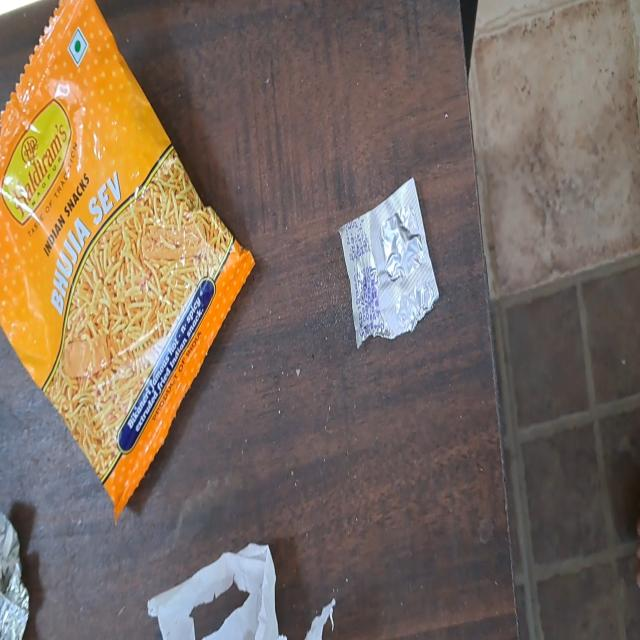Anorganik: (0, 0, 254, 529), (342, 174, 442, 346)
